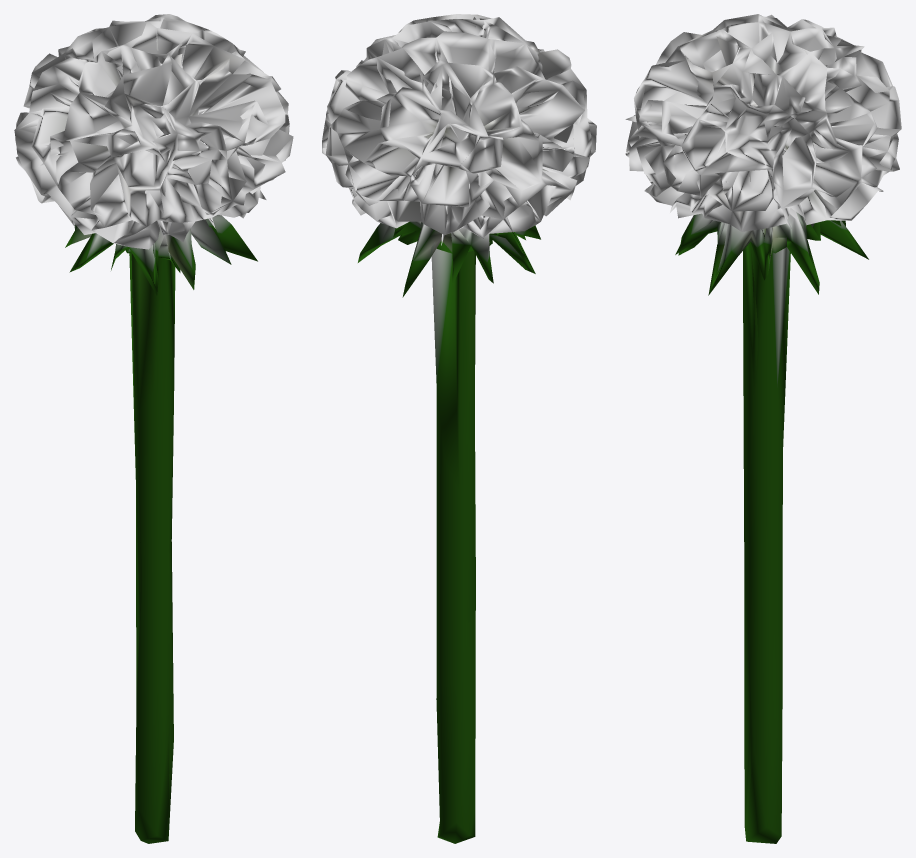
File: gen3d-dandelion-lod0.glb
3 views of the same model, side by side, from view 1: azimuth 30°, elevation 25°; view 2: azimuth 150°, elevation 25°; view 3: azimuth 270°, elevation 25° (orthographic).
Visible parts, largest first — view 1: part_0; view 2: part_0; view 3: part_0.
Boxes of the visible parts, x1,y1,x2,y2 form: part_0: (14, 14, 293, 843); part_0: (322, 14, 596, 843); part_0: (625, 14, 901, 843).
Bounding box in the file's own units: 0.3073 × 0.9998 × 0.309.
